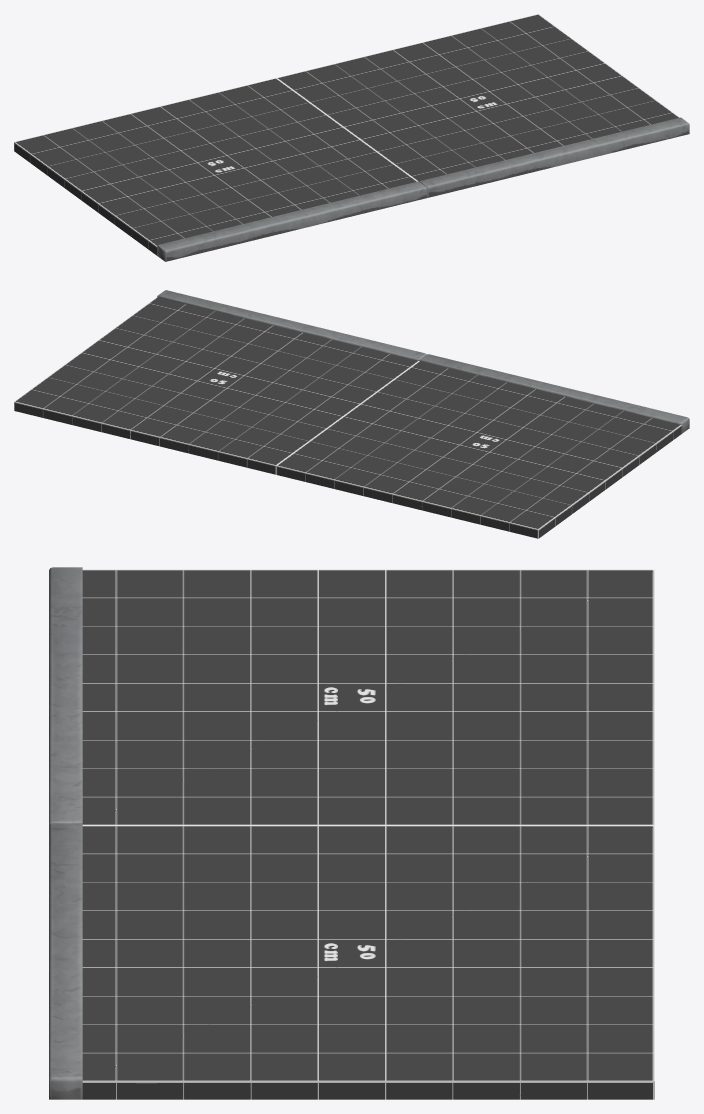
File: M02SideWalk02_6.FBX
3 renders of one model, top to bottom at view 1: azimuth 30°, elevation 25°; view 2: azimuth 150°, elevation 25°; view 3: azimuth 270°, elevation 25°, orthographic. The views are drawn at different scales.
Visible parts, largest first — view 1: M02SideWalk02_6; view 2: M02SideWalk02_6; view 3: M02SideWalk02_6.
Boxes of the visible parts, x1=… form: M02SideWalk02_6: x1=14, y1=14, x2=689, y2=261; M02SideWalk02_6: x1=14, y1=290, x2=689, y2=538; M02SideWalk02_6: x1=49, y1=567, x2=654, y2=1099.
Size of what is drawn, in the model's own units: 9 by 0.1783 by 4.5.
